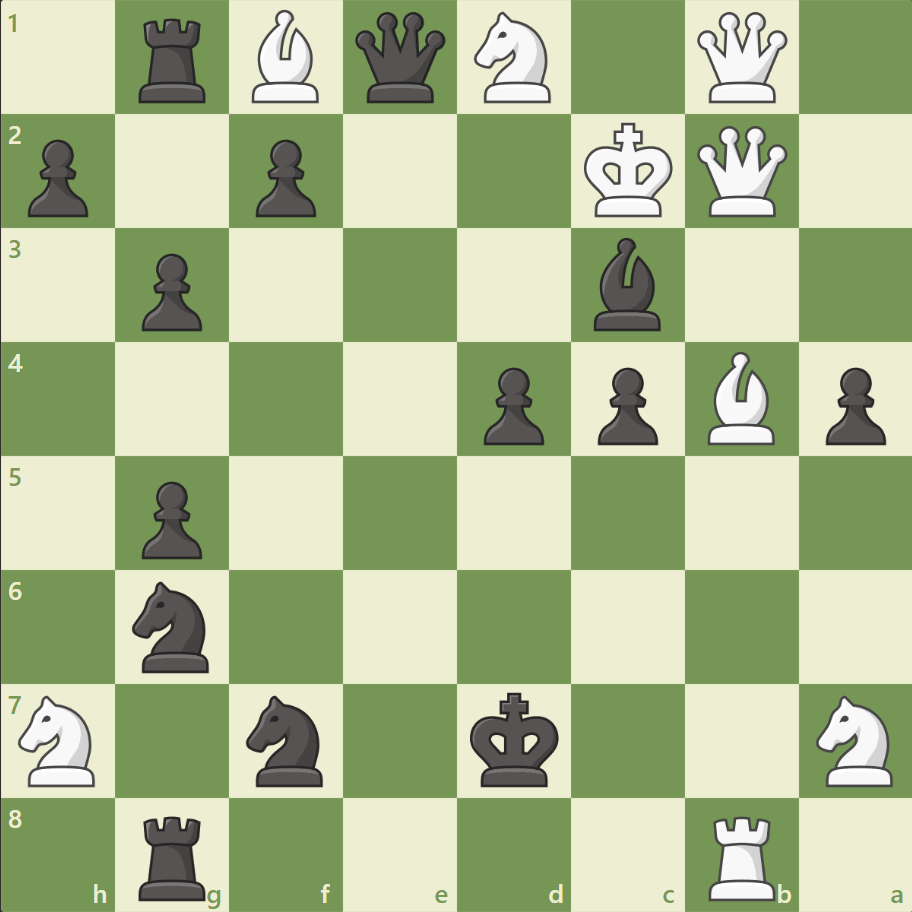B: (244, 6, 328, 109), (698, 347, 782, 449)
K: (579, 117, 679, 225)
N: (806, 688, 903, 791), (11, 688, 108, 791), (465, 7, 562, 110)
Q: (691, 122, 790, 222), (691, 9, 790, 108)
R: (700, 806, 783, 904)
b: (585, 233, 669, 336)
k: (465, 685, 565, 793)
n: (124, 575, 222, 677), (238, 688, 335, 791)
p: (133, 473, 208, 564), (474, 359, 549, 450), (133, 246, 208, 337), (247, 132, 322, 223), (20, 132, 95, 223), (815, 359, 889, 450), (588, 359, 662, 450)
q: (351, 9, 450, 108)
r: (133, 806, 215, 904), (133, 12, 215, 109)
